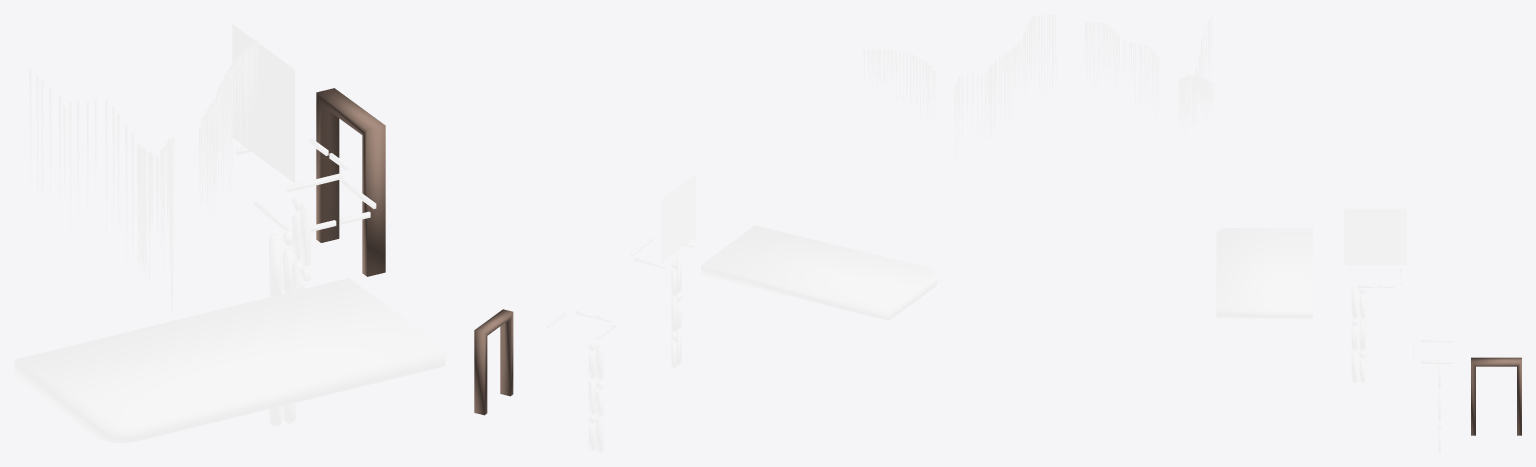
File: light.gltf
3 renders of one model, left to right at view 1: azimuth 30°, elevation 25°; view 2: azimuth 150°, elevation 25°; view 3: azimuth 270°, elevation 25°, orthographic. The views are drawn at different scales.
Parts seen in each view (by area): view 1: Plane.007, Vert.006, Plane.026, Plane.107, Plane.020, Plane.001, Cube.009, Cube.004; view 2: Plane.007, Vert.006, Plane.026, Plane.107, Plane.020, Plane.001; view 3: Plane.007, Vert.006, Plane.107, Plane.001, Plane.026.
Part boxes in pixels (left/top/right/bottom): Plane.007: left=14, top=278, right=445, bottom=443; Vert.006: left=29, top=39, right=258, bottom=314; Plane.026: left=316, top=88, right=385, bottom=276; Plane.107: left=232, top=24, right=294, bottom=182; Plane.020: left=269, top=231, right=295, bottom=426; Plane.001: left=292, top=197, right=310, bottom=291; Cube.009: left=254, top=180, right=376, bottom=231; Cube.004: left=235, top=138, right=348, bottom=192; Plane.007: left=701, top=225, right=937, bottom=320; Vert.006: left=863, top=14, right=1056, bottom=162; Plane.026: left=474, top=309, right=513, bottom=415; Plane.107: left=661, top=174, right=695, bottom=262; Plane.020: left=588, top=343, right=603, bottom=452; Plane.001: left=671, top=257, right=681, bottom=368; Plane.007: left=1216, top=228, right=1312, bottom=318; Vert.006: left=1085, top=14, right=1214, bottom=139; Plane.107: left=1344, top=208, right=1406, bottom=265; Plane.001: left=1351, top=286, right=1365, bottom=382; Plane.026: left=1471, top=357, right=1521, bottom=435.
Size of the model in its own units: 7.36 by 7.3 by 9.05.
